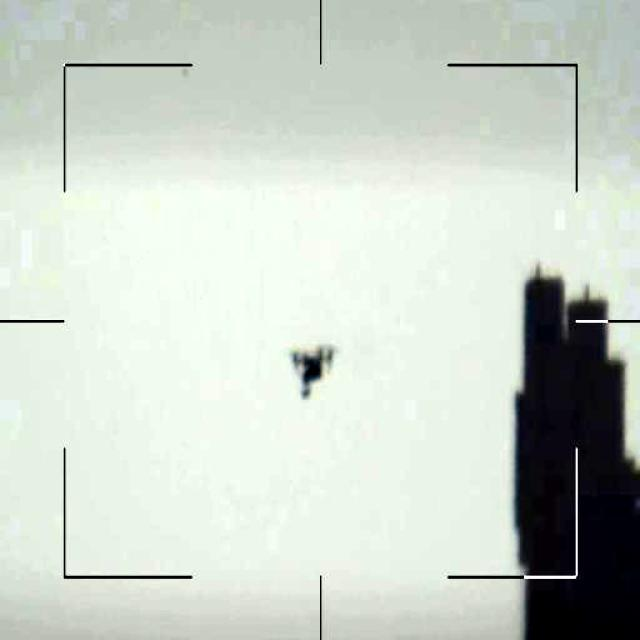bird: (285, 344, 339, 396)
